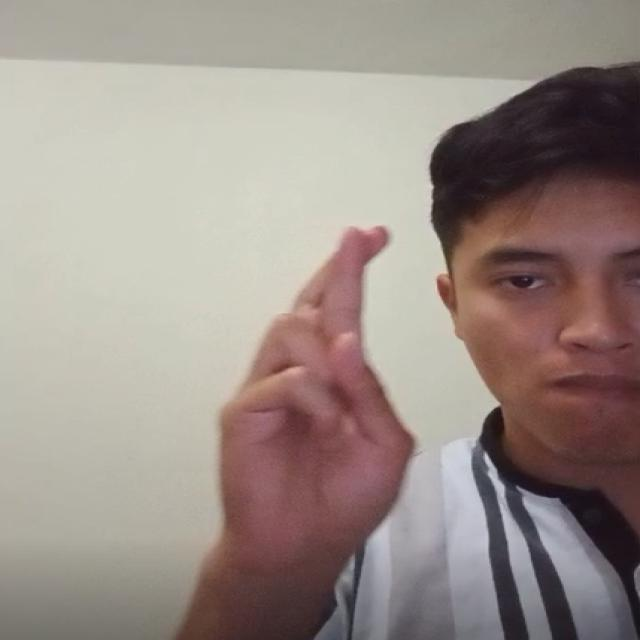R: (189, 209, 435, 561)
